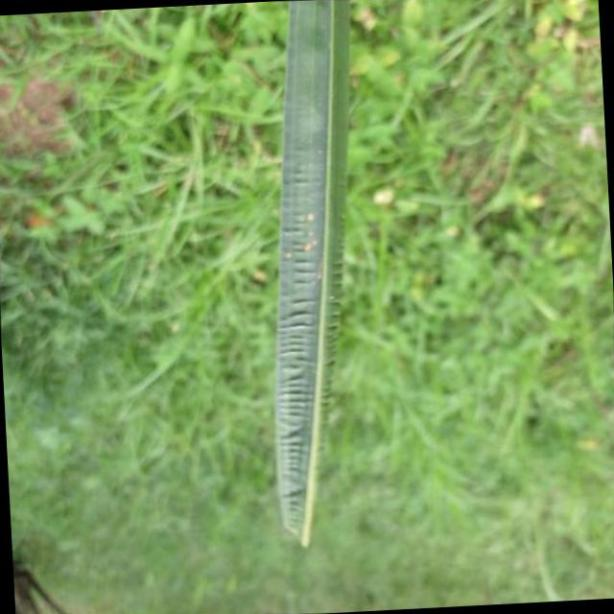Boron: (271, 0, 366, 556)
